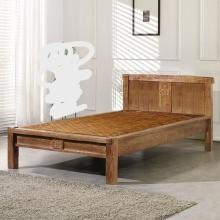Bed-Mattress: (5, 71, 216, 181)
